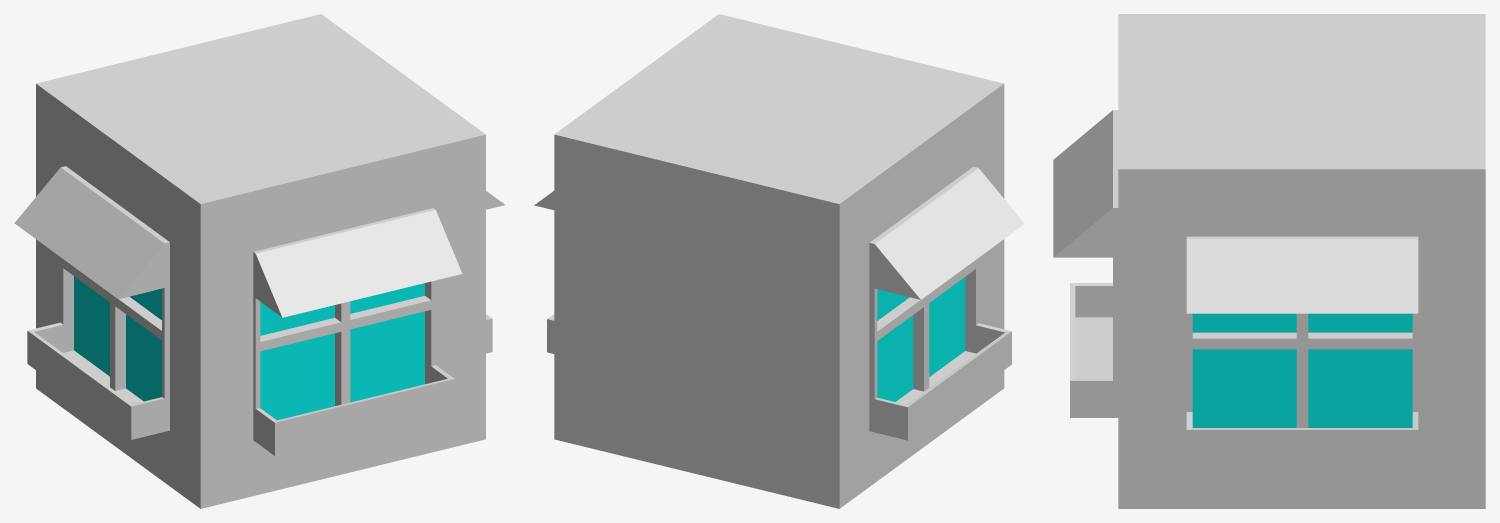
The model's file is BuildingM2.fbx.
3 renders of one model, left to right at view 1: azimuth 30°, elevation 25°; view 2: azimuth 150°, elevation 25°; view 3: azimuth 270°, elevation 25°, orthographic. The views are drawn at different scales.
Visible parts, largest first — view 1: M2; view 2: M2; view 3: M2.
Part boxes in pixels (left/top/right/bottom): M2: left=14, top=14, right=504, bottom=508; M2: left=534, top=14, right=1024, bottom=508; M2: left=1053, top=14, right=1485, bottom=508.
Bounding box in the file's own units: 876 × 659 × 760.
